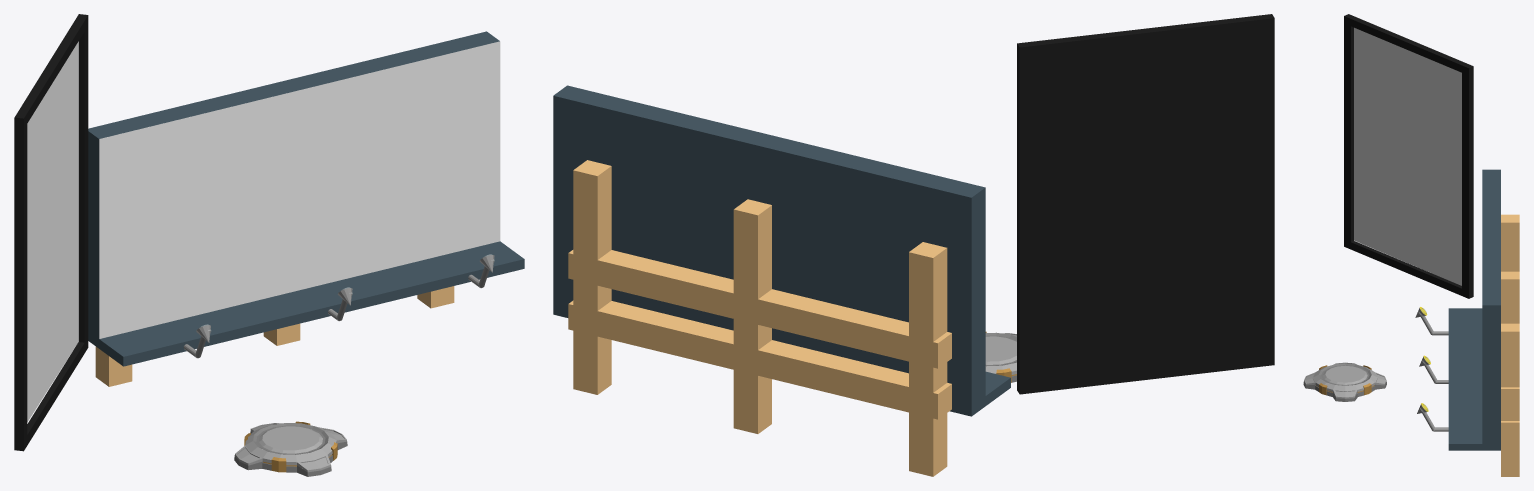
Rendered from billboardSet4.glb.
3 views of the same model, side by side, from view 1: azimuth 30°, elevation 25°; view 2: azimuth 150°, elevation 25°; view 3: azimuth 270°, elevation 25° (orthographic). The views are drawn at different scales.
Parts seen in each view (by area): view 1: billboard.001, billboard, billboard.002, sidescreenScreen, Props_Base; view 2: billboard, sidescreenScreen, Props_Base; view 3: billboard.002, billboard, sidescreenScreen, Props_Base.
Part boxes in pixels (left/top/right/bottom): billboard.001: left=99, top=41, right=500, bottom=338; billboard: left=88, top=31, right=524, bottom=386; billboard.002: left=27, top=42, right=78, bottom=421; sidescreenScreen: left=14, top=14, right=88, bottom=451; Props_Base: left=234, top=421, right=347, bottom=476; billboard: left=553, top=85, right=1010, bottom=476; sidescreenScreen: left=1017, top=14, right=1274, bottom=394; Props_Base: left=985, top=331, right=1016, bottom=382; billboard.002: left=1354, top=27, right=1461, bottom=285; billboard: left=1415, top=169, right=1519, bottom=476; sidescreenScreen: left=1344, top=14, right=1473, bottom=298; Props_Base: left=1303, top=362, right=1386, bottom=401.
Size of the model in its own units: 1.25 by 0.8206 by 0.5787.
